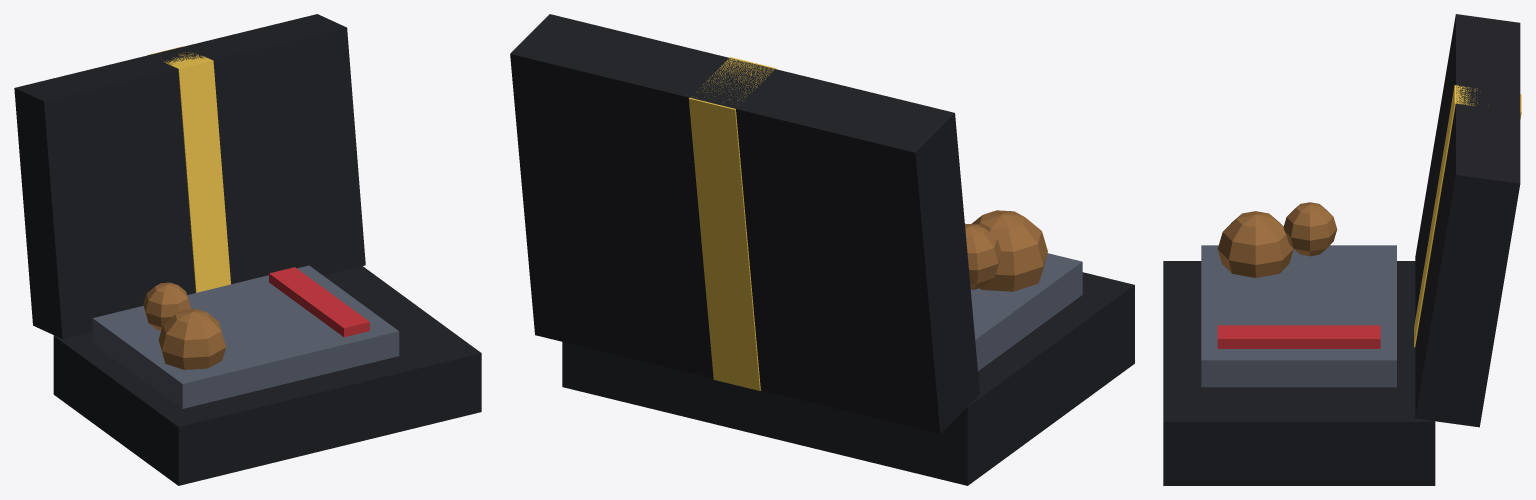
File: suitcase_open.glb
The picture shows the model from 3 angles, left to right: view 1: azimuth 30°, elevation 25°; view 2: azimuth 150°, elevation 25°; view 3: azimuth 270°, elevation 25°; orthographic projection. The views are drawn at different scales.
Visible parts, largest first — view 1: lid_suitcase_black, body_suitcase_black, clothes_suit_grey, ribbon_ribbon_yellow, bear_bear_brown (×2), clothes_tie_red; view 2: lid_suitcase_black, body_suitcase_black, ribbon_ribbon_yellow, clothes_suit_grey, bear_bear_brown (×2); view 3: body_suitcase_black, lid_suitcase_black, clothes_suit_grey, bear_bear_brown (×2), clothes_tie_red, ribbon_ribbon_yellow.
Part boxes in pixels (bbox=[...]): lid_suitcase_black: bbox=[14, 14, 365, 338]; body_suitcase_black: bbox=[53, 266, 481, 485]; clothes_suit_grey: bbox=[92, 265, 399, 408]; ribbon_ribbon_yellow: bbox=[148, 46, 230, 292]; bear_bear_brown (×2): bbox=[143, 282, 225, 369]; clothes_tie_red: bbox=[269, 267, 369, 337]; lid_suitcase_black: bbox=[510, 14, 979, 433]; body_suitcase_black: bbox=[562, 272, 1134, 485]; ribbon_ribbon_yellow: bbox=[688, 57, 776, 390]; clothes_suit_grey: bbox=[970, 253, 1082, 370]; bear_bear_brown (×2): bbox=[965, 210, 1047, 291]; body_suitcase_black: bbox=[1163, 261, 1435, 485]; lid_suitcase_black: bbox=[1415, 14, 1520, 427]; clothes_suit_grey: bbox=[1201, 245, 1396, 387]; bear_bear_brown (×2): bbox=[1217, 202, 1337, 277]; clothes_tie_red: bbox=[1217, 325, 1380, 348]; ribbon_ribbon_yellow: bbox=[1414, 85, 1521, 347].
Size of the model in its own units: 0.7 by 0.6315 by 0.6592.
